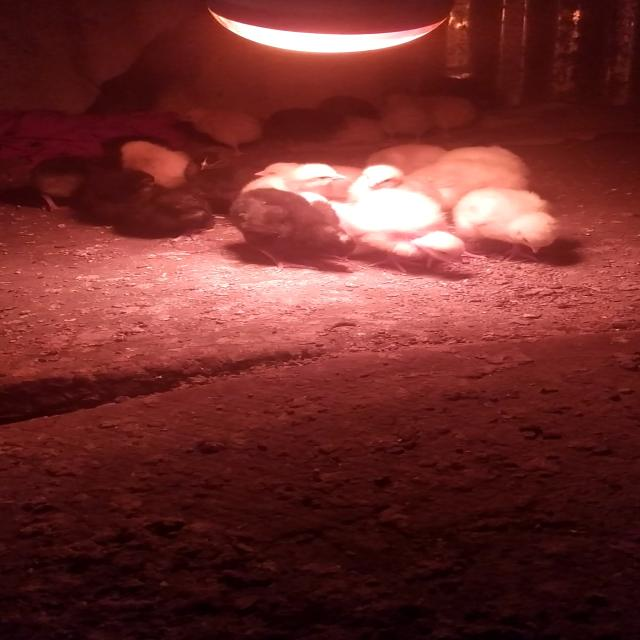chick: (341, 190, 474, 274), (231, 186, 358, 272), (452, 188, 562, 262), (413, 144, 529, 188), (69, 170, 155, 228), (119, 190, 216, 238), (176, 109, 262, 156), (118, 139, 198, 189), (244, 165, 349, 198), (30, 155, 86, 213), (254, 162, 358, 192), (266, 106, 340, 146), (378, 95, 431, 144), (350, 165, 415, 203), (368, 144, 456, 171), (429, 95, 479, 138), (320, 95, 382, 119), (329, 121, 384, 142)
objects: (204, 1, 456, 55)
